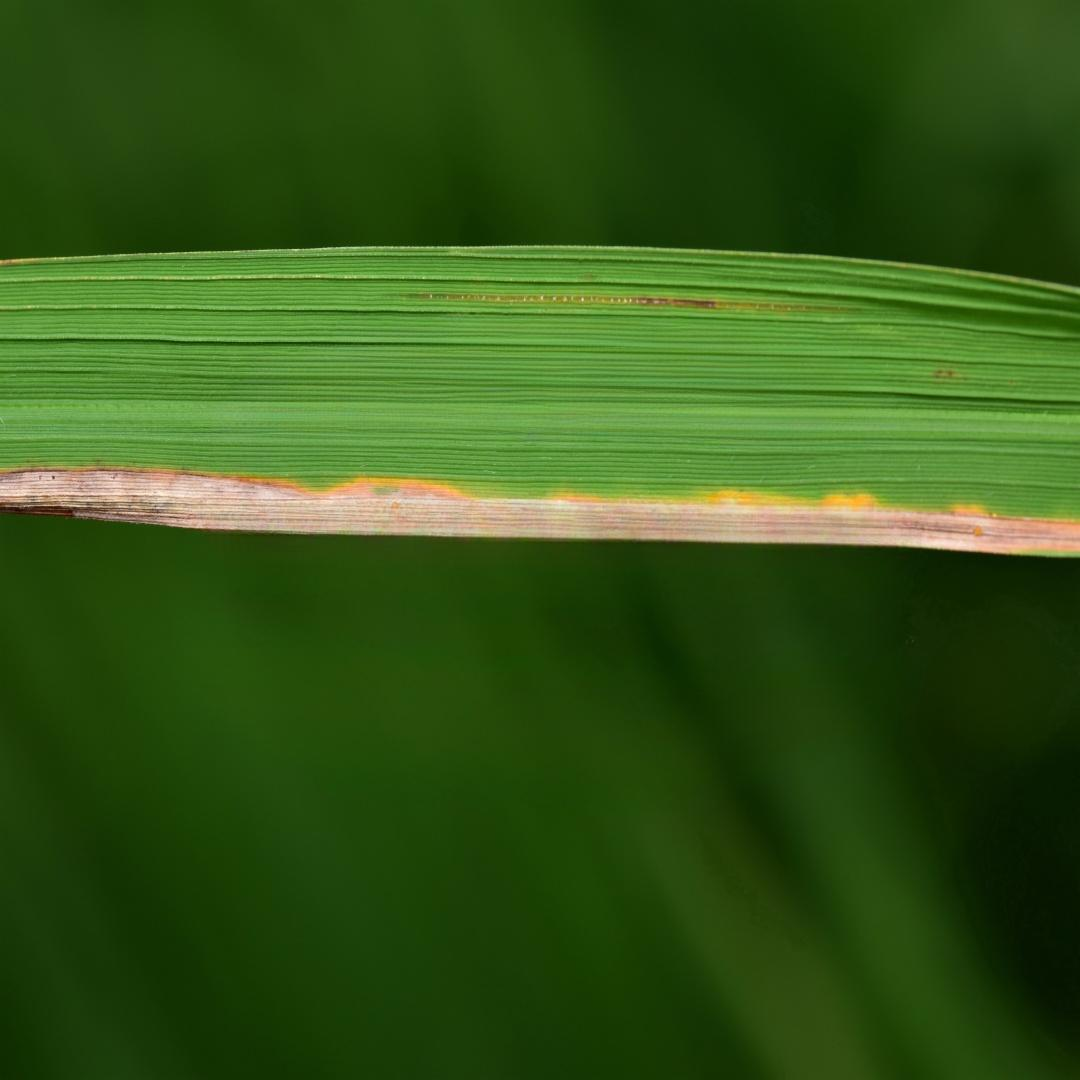BLB: (0, 468, 1079, 553)
LEAF: (0, 247, 1079, 554)
